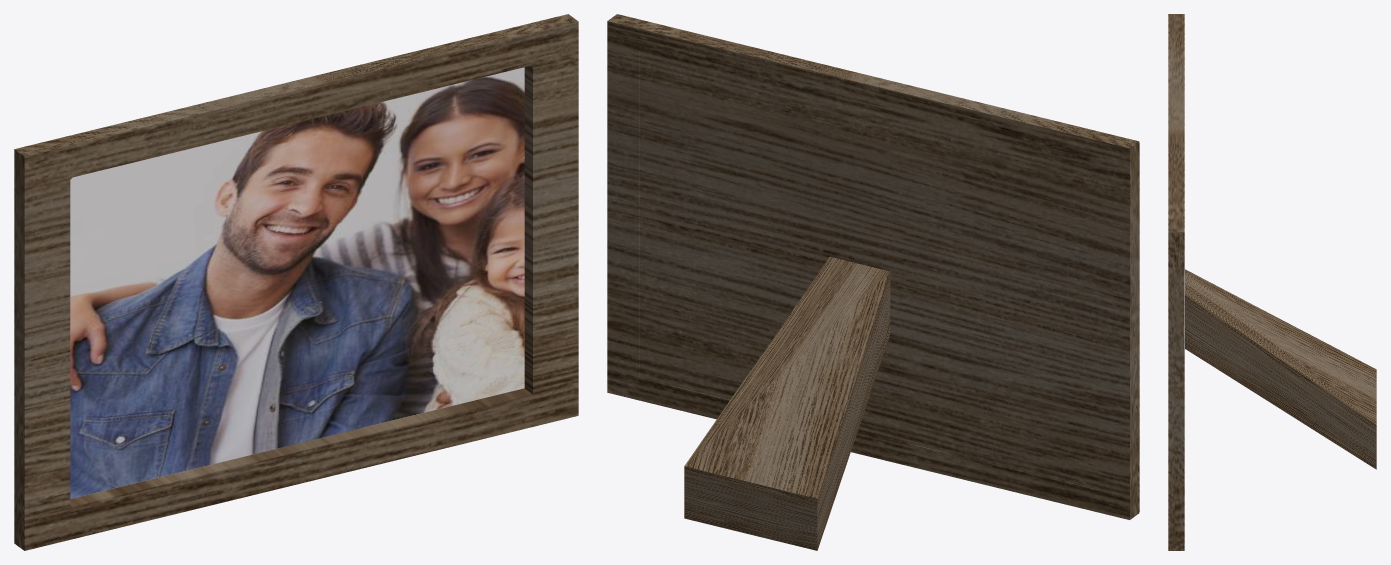
File: frame.fbx
3 views of the same model, side by side, from view 1: azimuth 30°, elevation 25°; view 2: azimuth 150°, elevation 25°; view 3: azimuth 270°, elevation 25° (orthographic). The views are drawn at different scales.
Parts seen in each view (by area): view 1: Cube.001, Cube; view 2: Cube; view 3: Cube.
Part boxes in pixels (x1,y1,x2,y2): Cube.001: (70,67,524,498); Cube: (14,14,578,550); Cube: (607,14,1139,550); Cube: (1168,14,1376,550).
Size of the model in its own units: 5000 by 3400 by 2018.
Materials: 2 (2 with a texture image).
